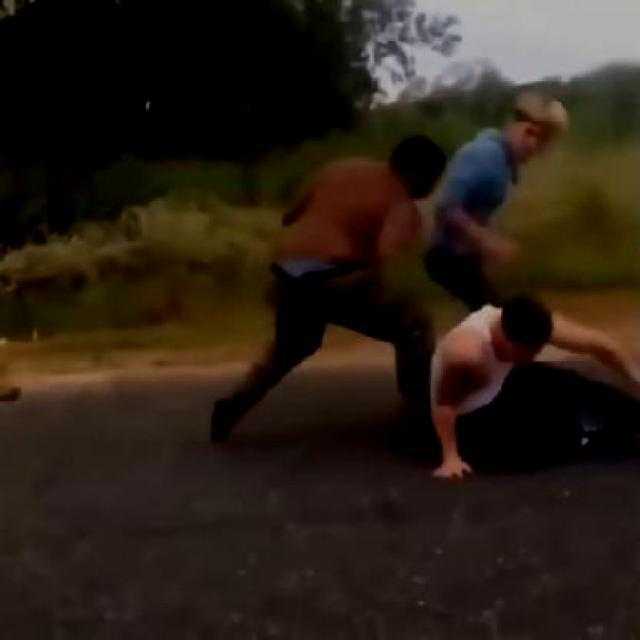fight: (211, 136, 640, 487)
